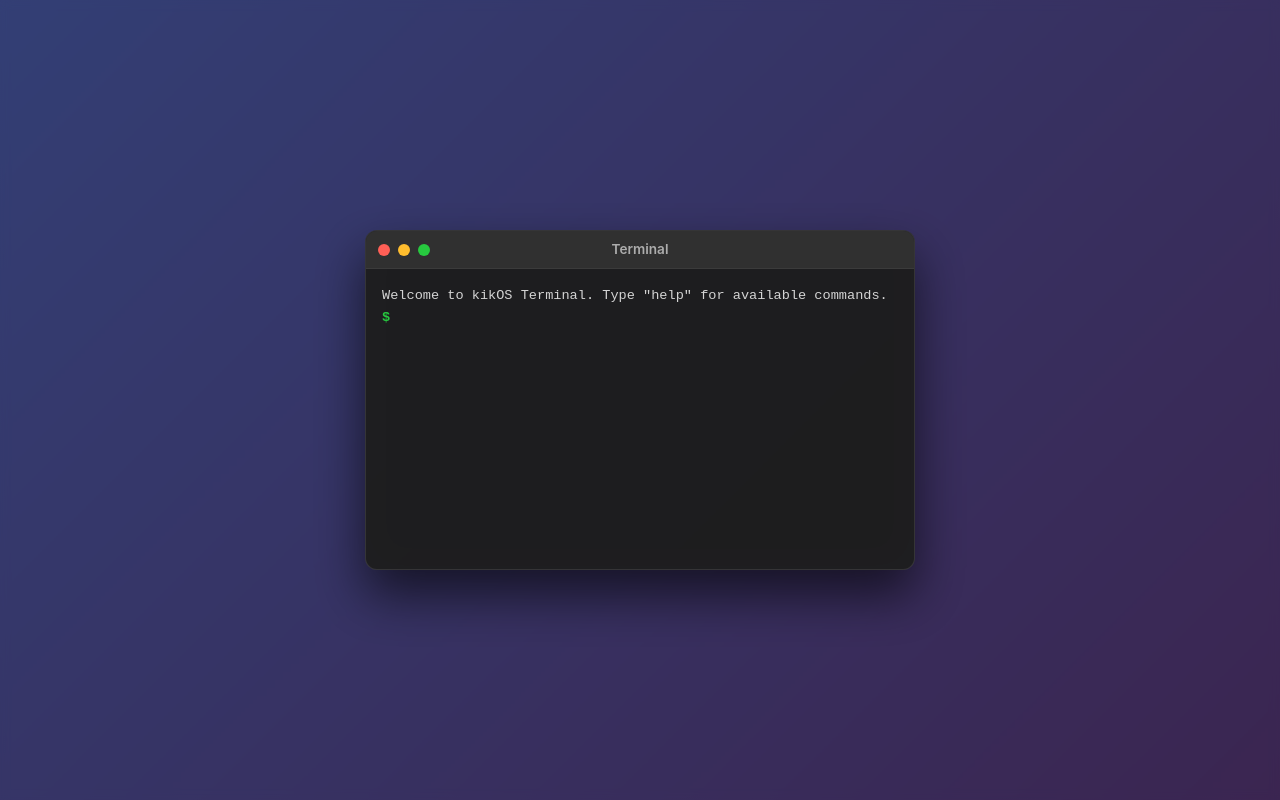
Test case: Terminal › shows available commands when typing help
In the field: coordinates (644, 318) [390,307,898,329], type "help"
Then press Enter
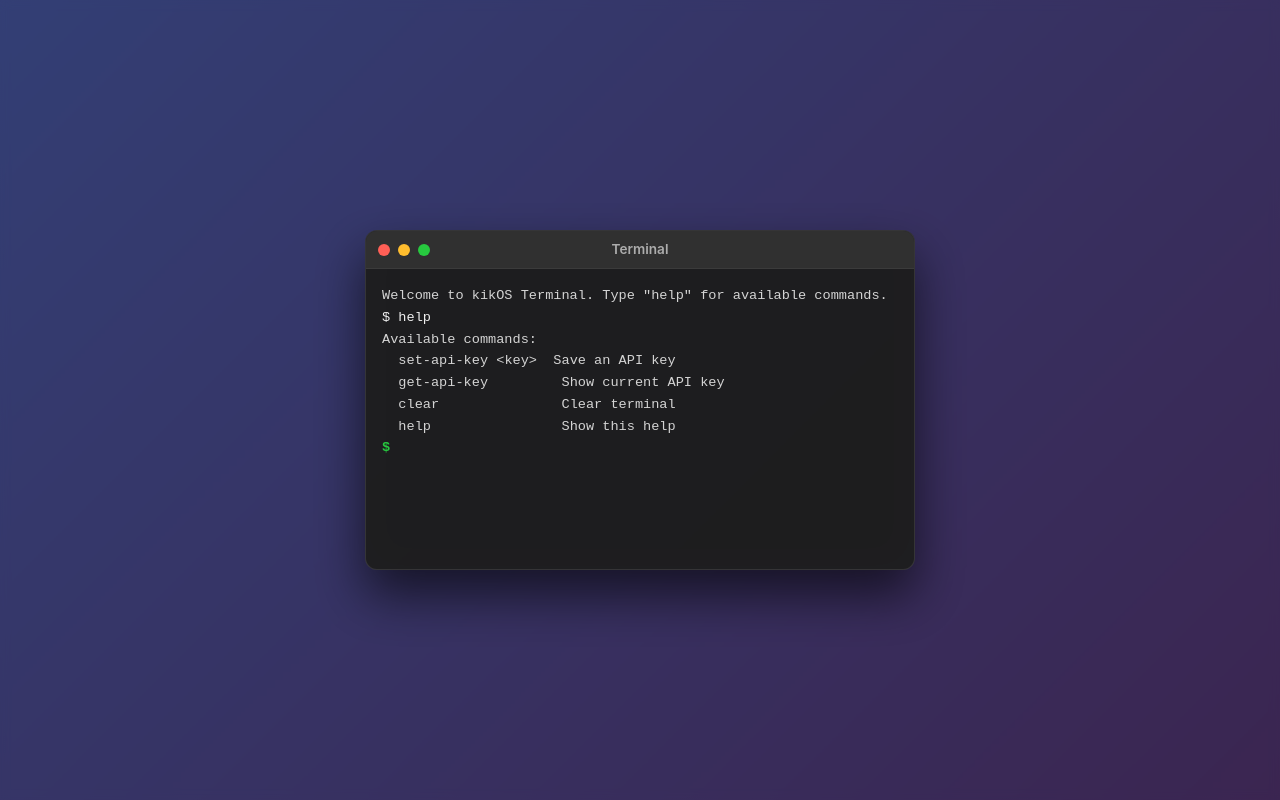
expect the text "clear" is shown: met, box [382,332,725,434]
